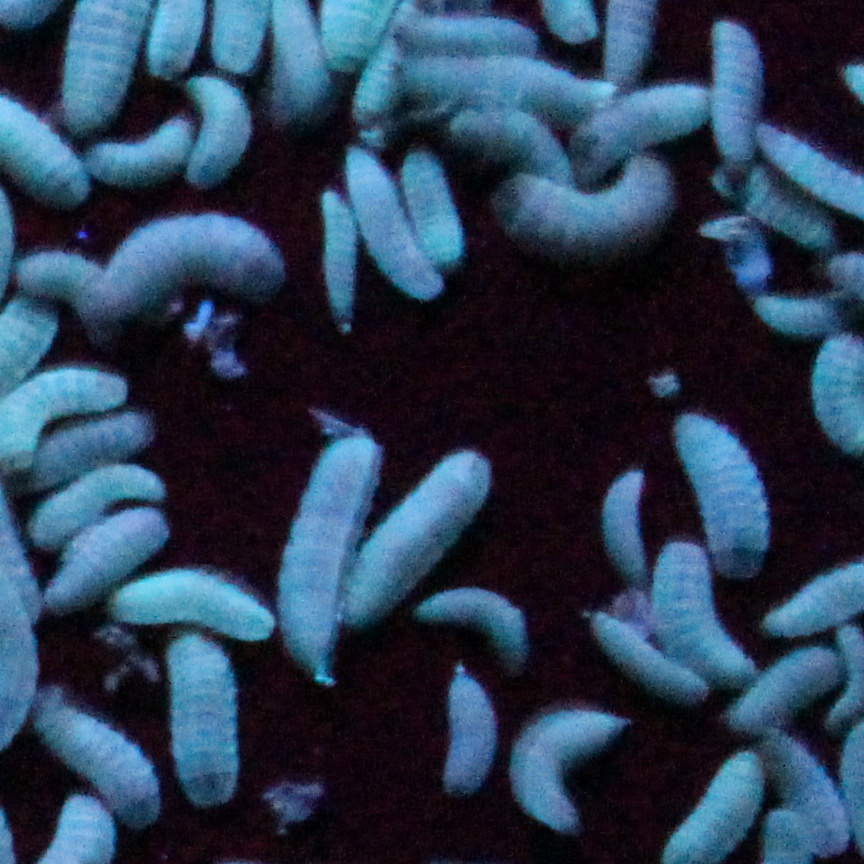larve: (324, 453, 494, 619), (24, 686, 163, 827), (286, 435, 355, 670), (90, 206, 273, 294), (643, 545, 757, 686), (336, 145, 436, 304), (504, 157, 678, 245), (157, 635, 243, 808), (510, 715, 630, 827), (43, 512, 167, 617), (585, 72, 712, 172), (390, 140, 475, 277), (686, 421, 763, 570), (94, 572, 285, 631), (397, 57, 624, 104), (41, 463, 163, 543), (771, 739, 855, 853), (588, 623, 706, 702), (10, 421, 163, 478), (737, 655, 853, 729), (422, 582, 534, 657), (439, 661, 496, 806), (180, 65, 248, 184), (709, 16, 765, 160), (85, 111, 183, 187), (309, 184, 363, 321), (588, 455, 649, 572), (744, 184, 848, 250), (17, 235, 107, 311), (370, 9, 539, 45), (724, 301, 848, 331)
